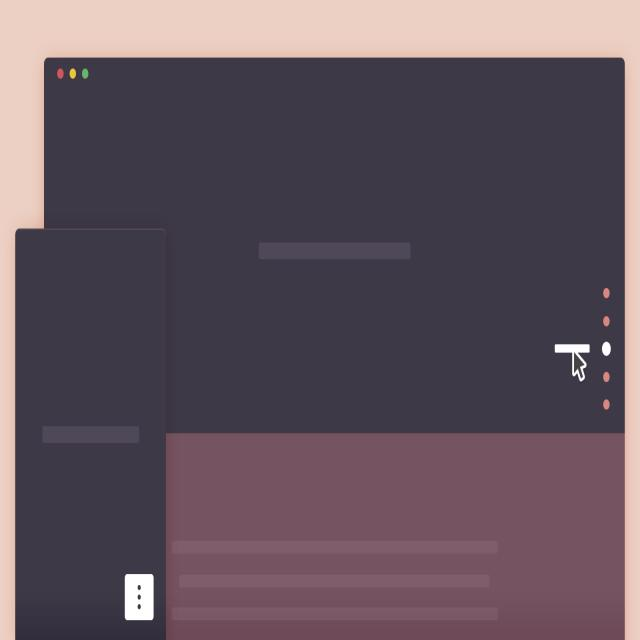Navigation-dots: (602, 286, 613, 416)
